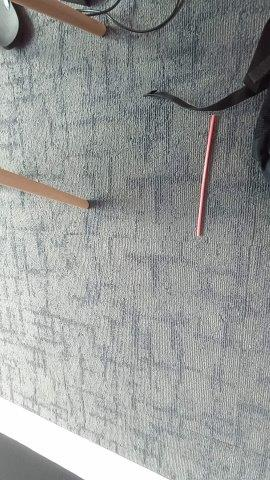sedotan: (197, 116, 215, 236)
